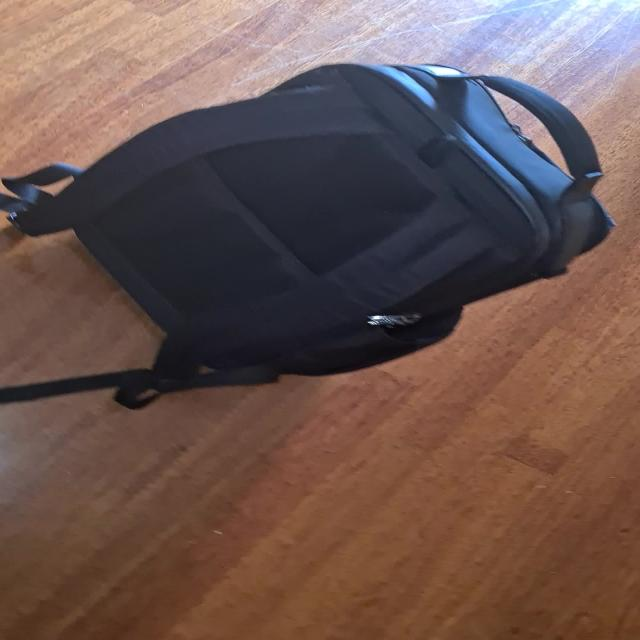backpack: (45, 46, 627, 388)
